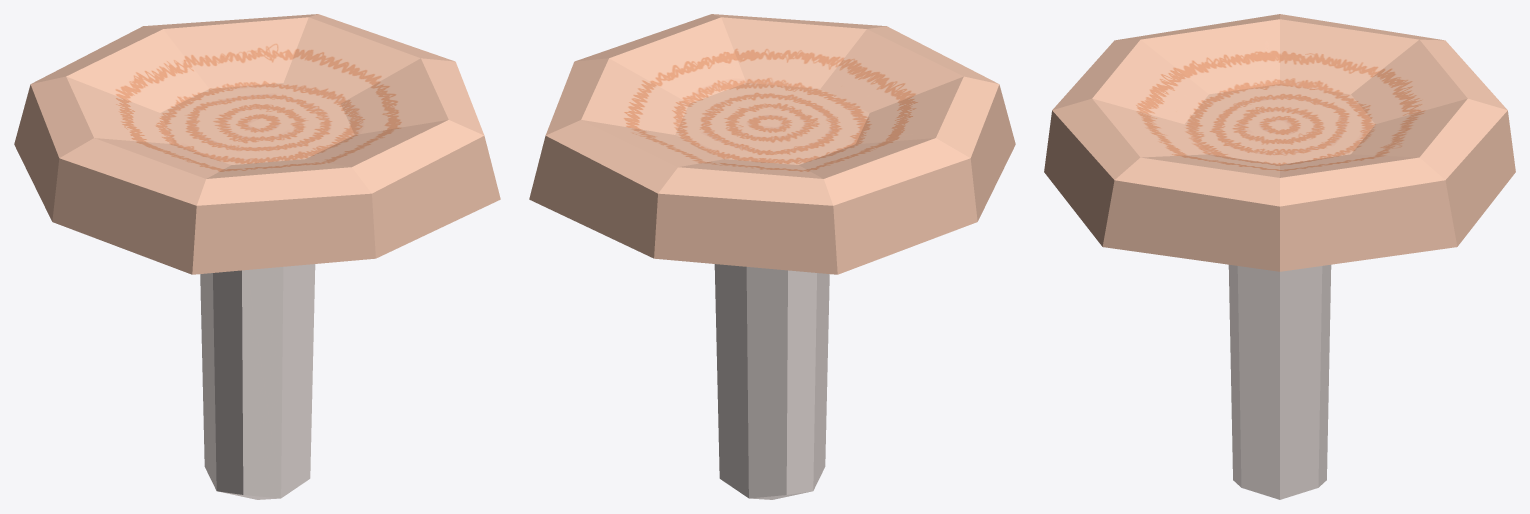
The model's file is Karvarousku.fbx.
3 renders of one model, left to right at view 1: azimuth 30°, elevation 25°; view 2: azimuth 150°, elevation 25°; view 3: azimuth 270°, elevation 25°, orthographic.
Visible parts, largest first — view 1: Cap, Leg; view 2: Cap, Leg; view 3: Cap, Leg.
Boxes of the visible parts, x1,y1,x2,y2 form: Cap: [14, 14, 500, 274]; Leg: [200, 264, 315, 499]; Cap: [529, 14, 1015, 274]; Leg: [714, 264, 829, 499]; Cap: [1044, 14, 1515, 271]; Leg: [1228, 264, 1331, 499].
Size of the model in its own units: 22.12 by 20.7 by 22.12.
